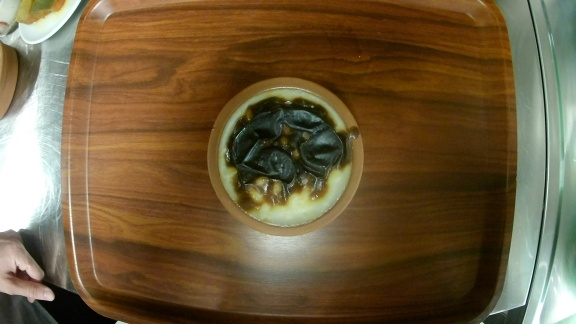sutlac: (207, 76, 366, 237)
